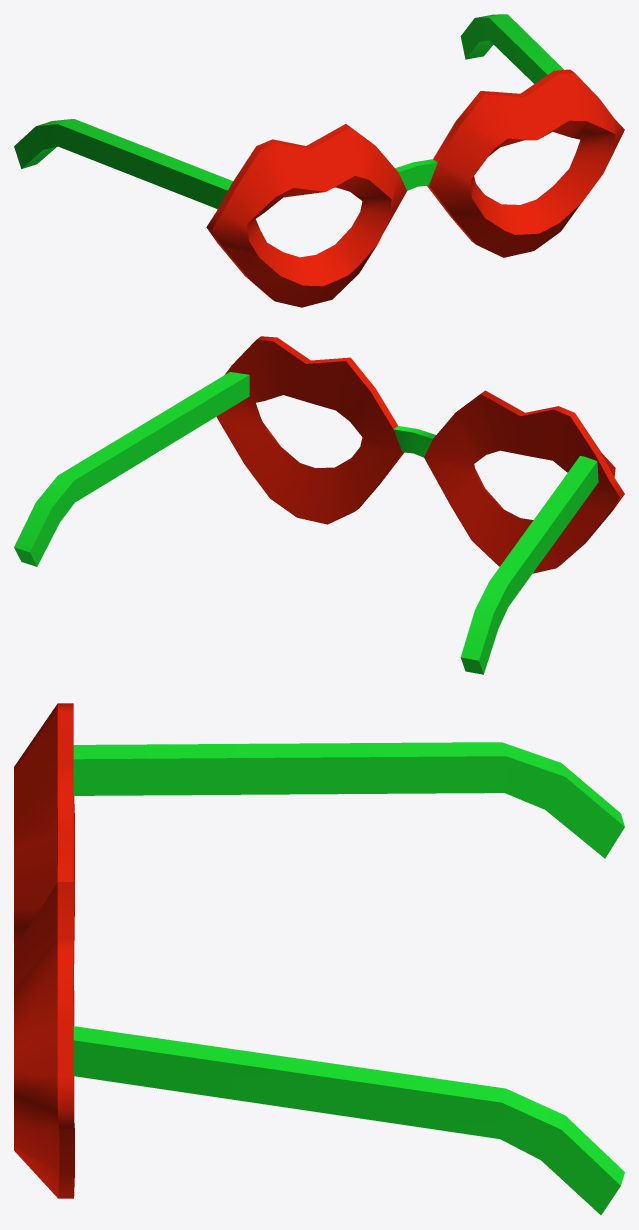
File: Lip_glasses.fbx
3 renders of one model, top to bottom at view 1: azimuth 30°, elevation 25°; view 2: azimuth 150°, elevation 25°; view 3: azimuth 270°, elevation 25°, orthographic. The views are drawn at different scales.
Visible parts, largest first — view 1: Lip_glasses.c, Glasses_stick_11, Glasses_stick_12; view 2: Lip_glasses.c, Glasses_stick_12, Glasses_stick_11; view 3: Glasses_stick_12, Glasses_stick_11, Lip_glasses.c.
Boxes of the visible parts, bbox=[...] form: Lip_glasses.c: bbox=[206, 69, 624, 307]; Glasses_stick_11: bbox=[14, 119, 232, 208]; Glasses_stick_12: bbox=[460, 14, 563, 83]; Lip_glasses.c: bbox=[216, 336, 624, 573]; Glasses_stick_12: bbox=[14, 372, 249, 566]; Glasses_stick_11: bbox=[460, 456, 598, 674]; Glasses_stick_12: bbox=[73, 1026, 624, 1215]; Glasses_stick_11: bbox=[73, 742, 624, 858]; Lip_glasses.c: bbox=[14, 703, 74, 1198].
Bounding box in the file's own units: 0.7122 × 0.2499 × 0.4935.
